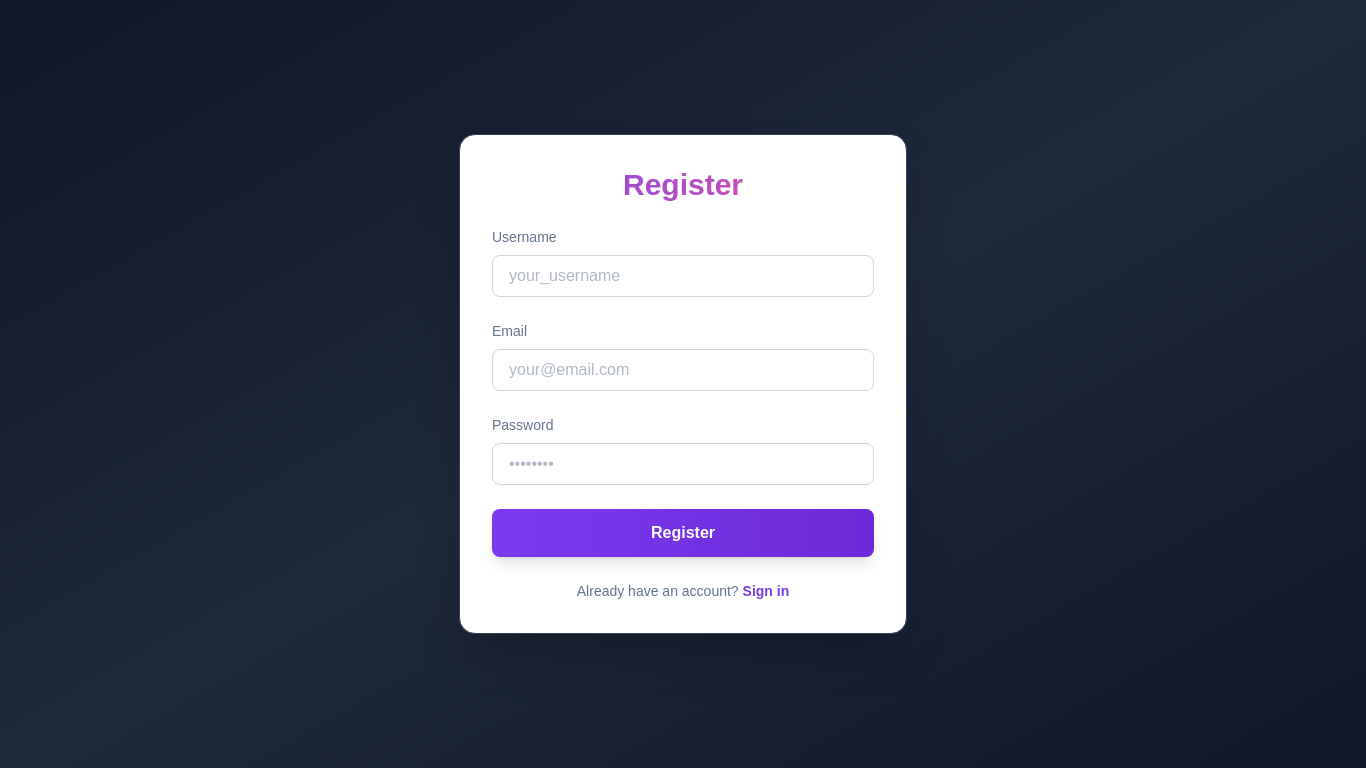
AUTH signup › should show error for weak password
Type "testuser" into the field named "username".
click(683, 276); type("testuser")  # box [492,255,874,297]
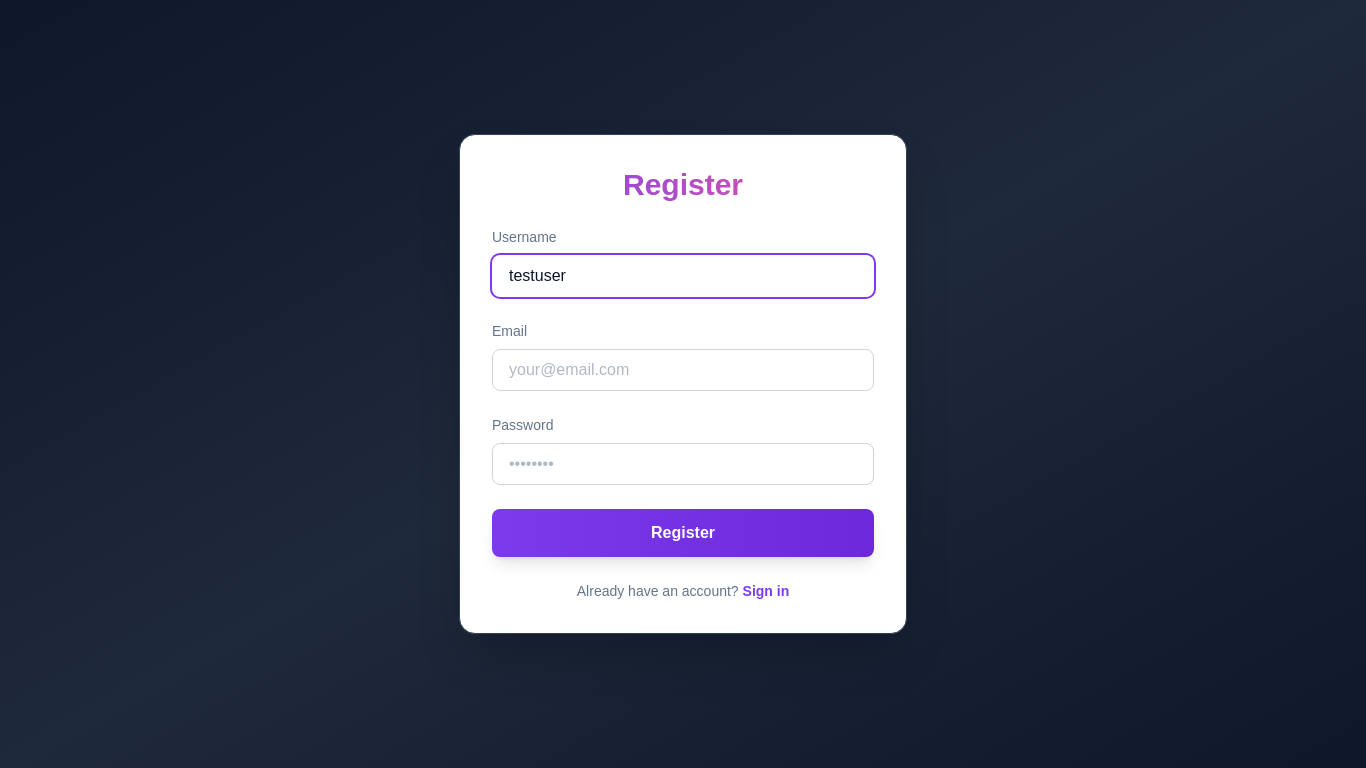
Type "test@example.com" into the field named "email".
click(683, 370); type("test@example.com")  # box [492,349,874,391]
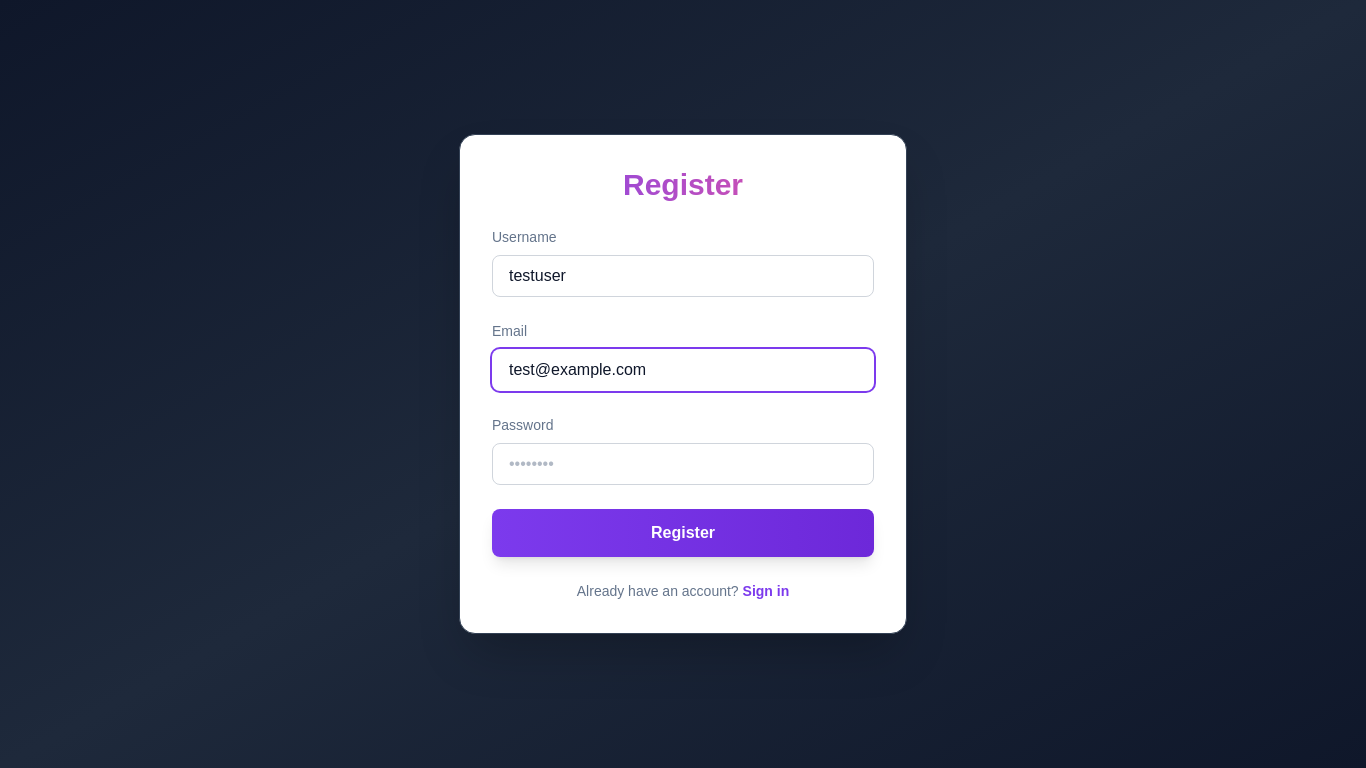
Type "123" into the password field named "password".
click(683, 464); type("123")  # box [492,443,874,485]
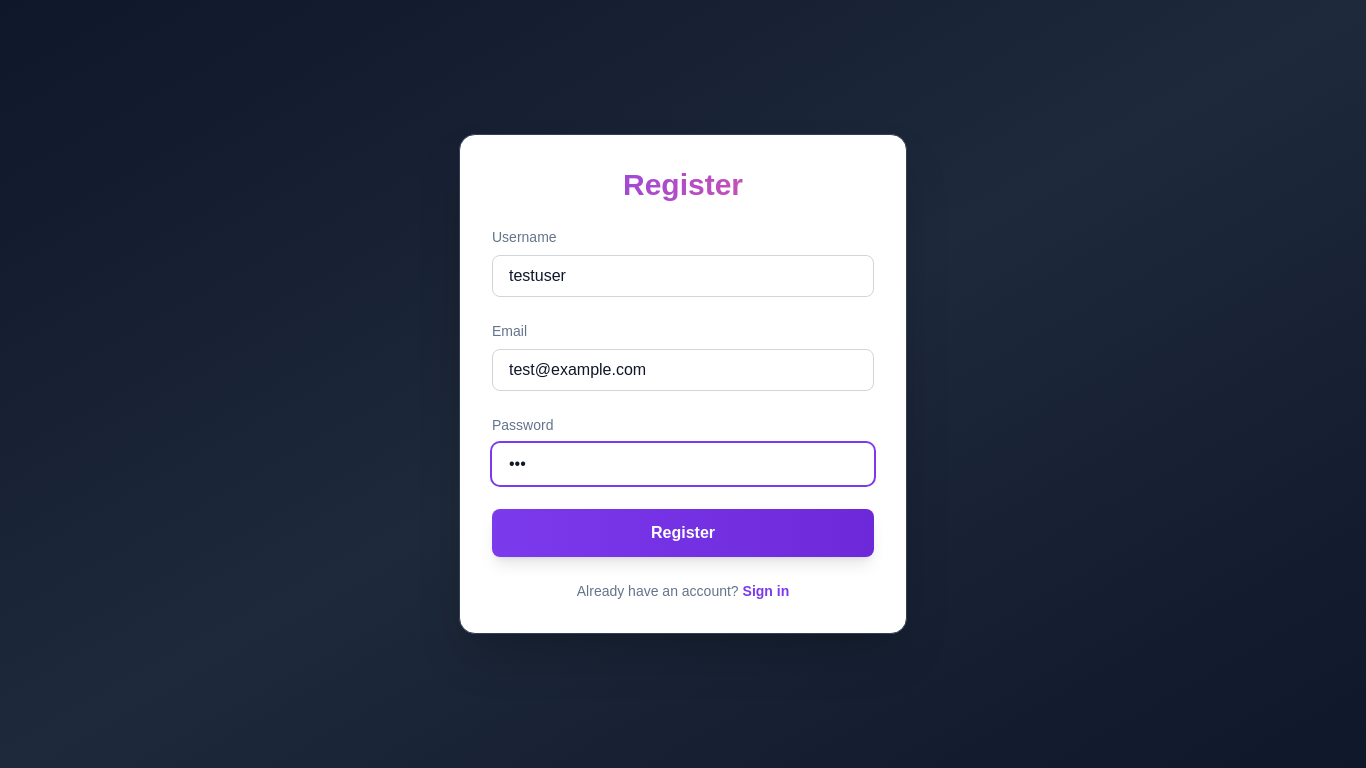
Click the submit button.
click(683, 533)  # box [492,509,874,557]
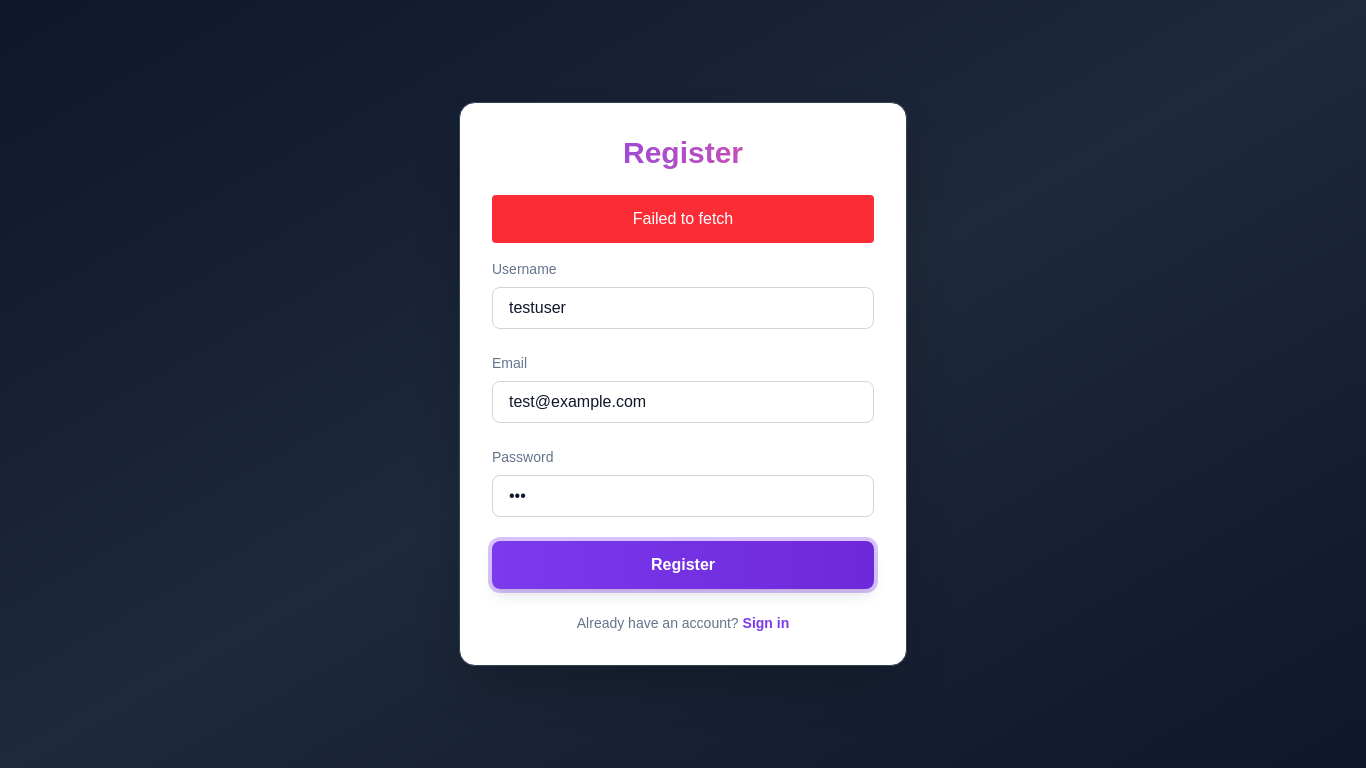
Check: the text "Failed to fetch" is shown, box [492,195,874,243]
